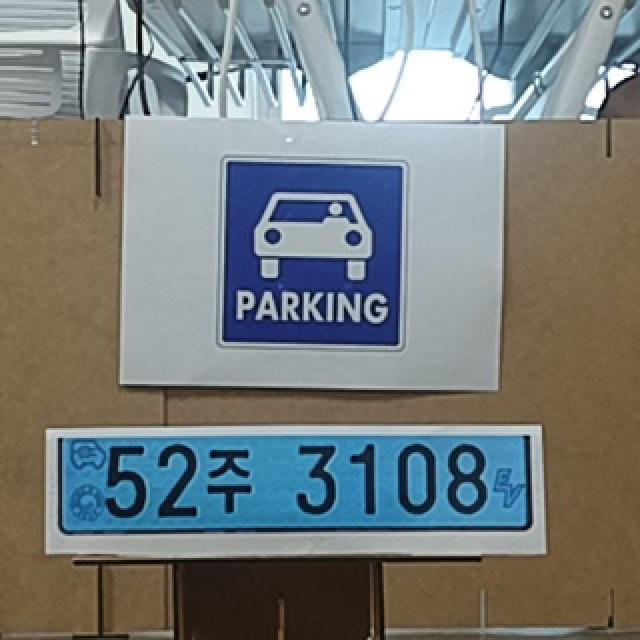electric: (58, 434, 534, 530)
